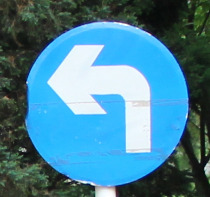left_turn: (25, 21, 189, 187)
